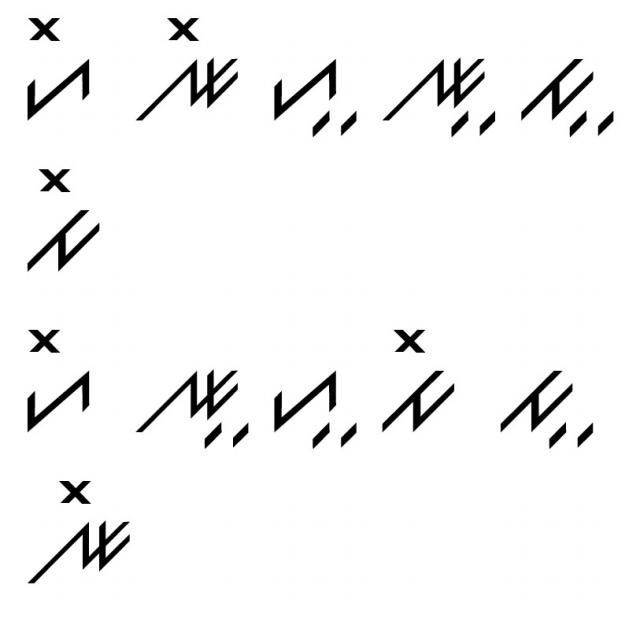hah: (260, 45, 360, 139), (270, 366, 362, 455)
ho: (14, 7, 99, 126), (15, 315, 96, 436)
mbah: (489, 356, 603, 448), (518, 50, 617, 146)
mbo: (21, 160, 107, 282), (374, 320, 457, 437)
ndah: (125, 352, 259, 455), (382, 45, 500, 146)
ndo: (130, 14, 242, 134), (21, 474, 136, 588)
